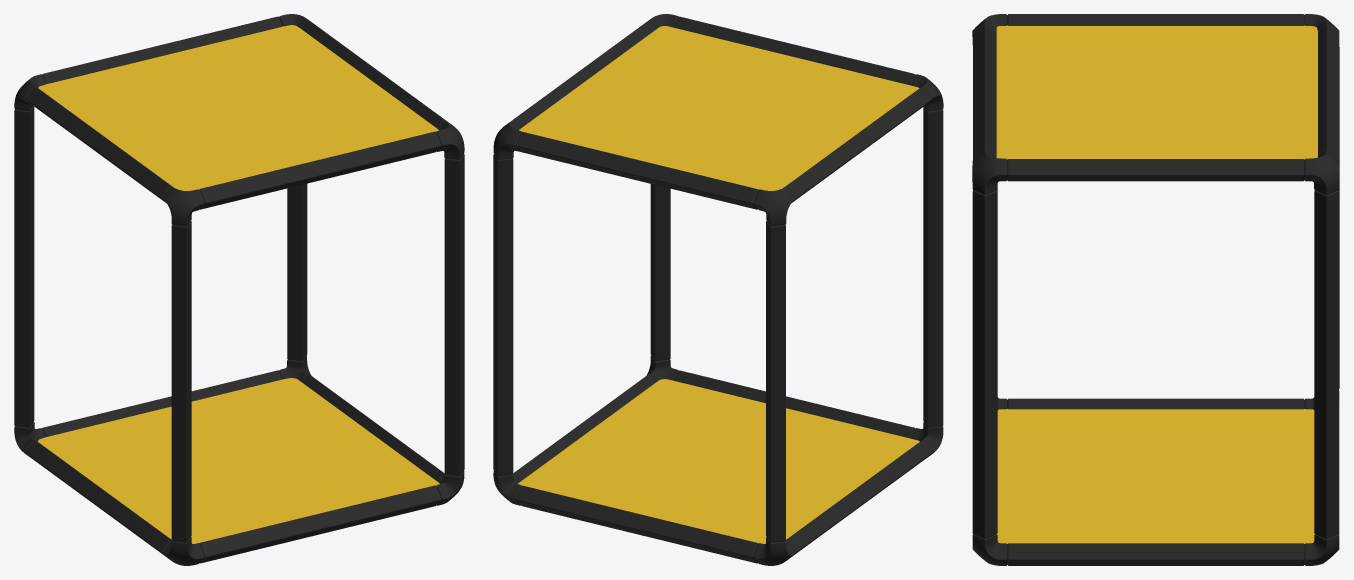
The picture shows the model from 3 angles, left to right: view 1: azimuth 30°, elevation 25°; view 2: azimuth 150°, elevation 25°; view 3: azimuth 270°, elevation 25°; orthographic projection. The views are drawn at different scales.
Parts seen in each view (by area): view 1: 329x329x420; view 2: 329x329x420; view 3: 329x329x420.
Part boxes in pixels (<box>): 329x329x420: <box>14,14,464,565</box>; 329x329x420: <box>493,14,943,565</box>; 329x329x420: <box>972,14,1339,565</box>.
Bounding box in the file's own units: 0.4067 × 0.4976 × 0.4063.
